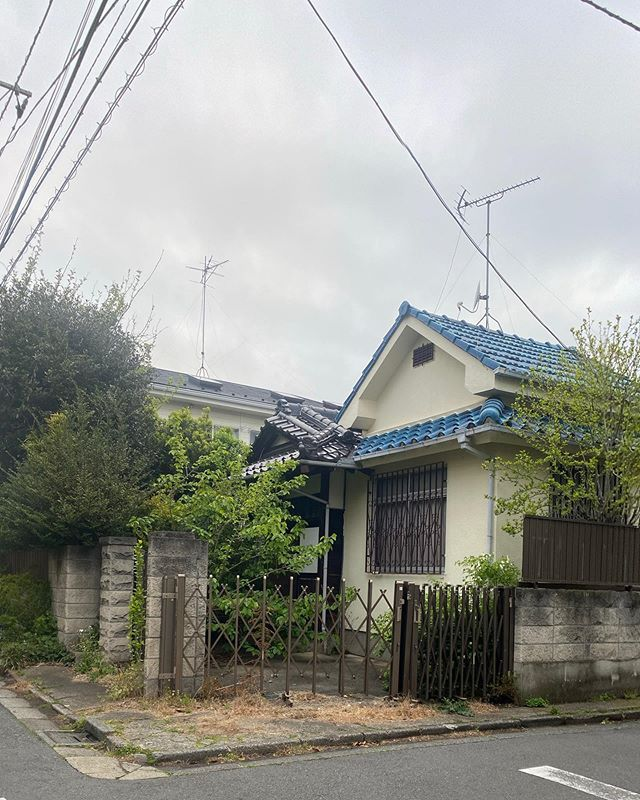building: (324, 318, 639, 685), (100, 354, 344, 638)
sky: (1, 1, 635, 313)
street: (7, 669, 640, 800)
tree: (1, 296, 159, 519), (509, 333, 640, 525)
